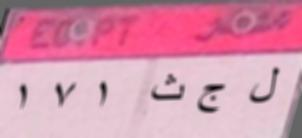1: (14, 78, 33, 113), (94, 79, 112, 111)
7: (53, 76, 79, 111)
jeem: (194, 78, 224, 125)
laam: (247, 58, 286, 111)
thaa: (148, 71, 184, 105)
